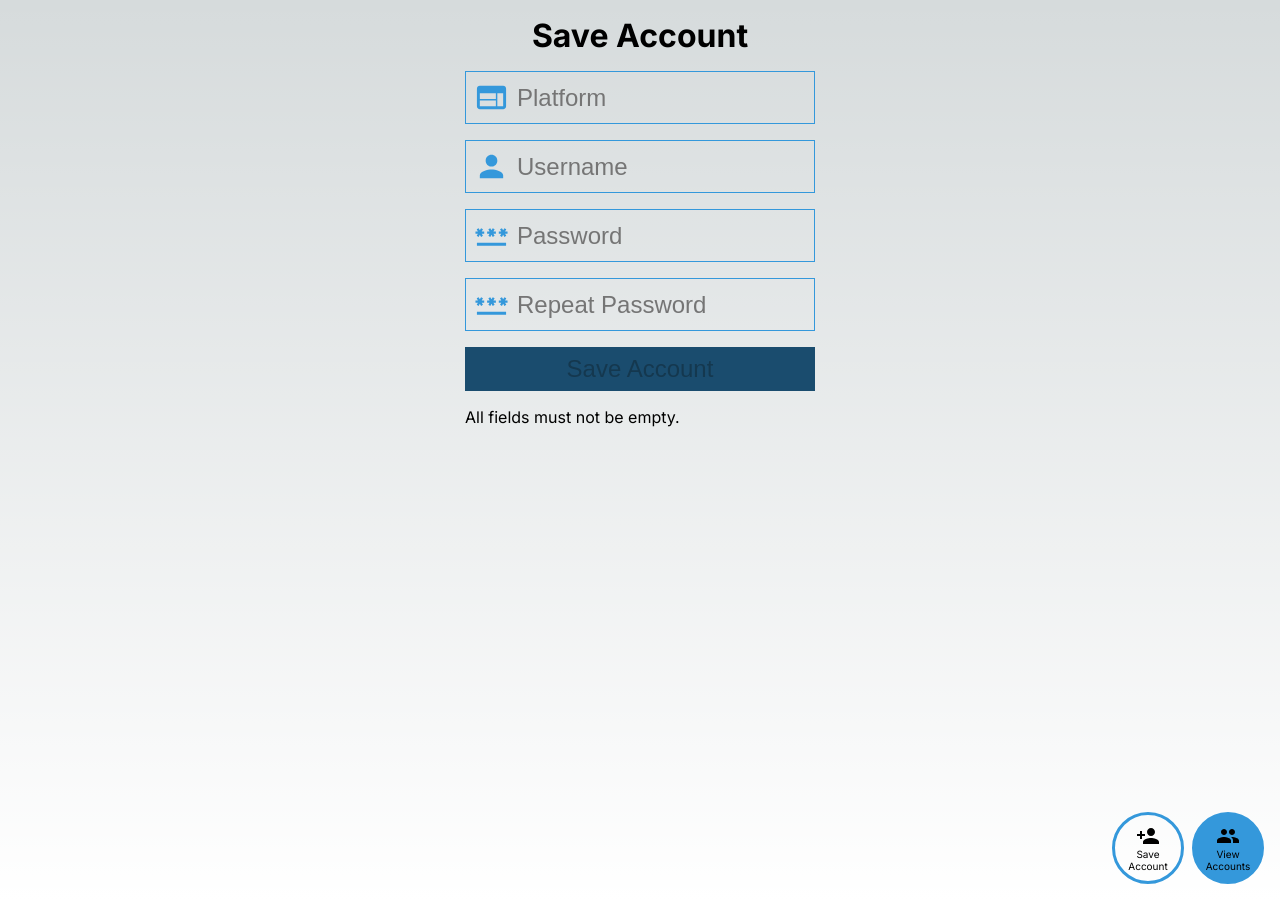
Test: SaveAccount Component › enables the "Save Account" button when inputs are valid
Type "TestPlatform" into the field with placeholder "Platform".
click(672, 98); type("TestPlatform")  # box x1=517 y1=80 x2=827 y2=115
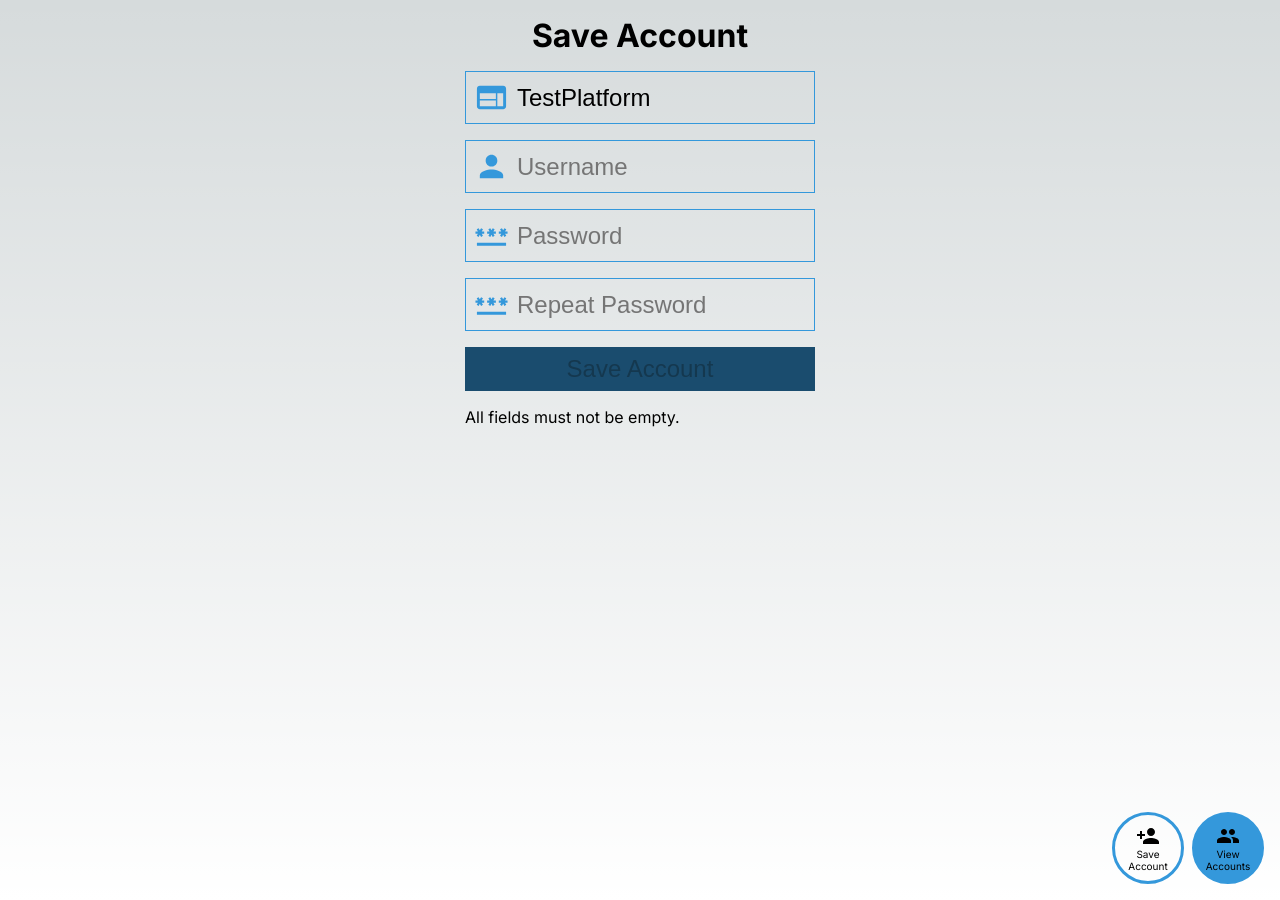
Type "TestUsername" into the field with placeholder "Username".
click(672, 166); type("TestUsername")  # box x1=517 y1=149 x2=827 y2=184
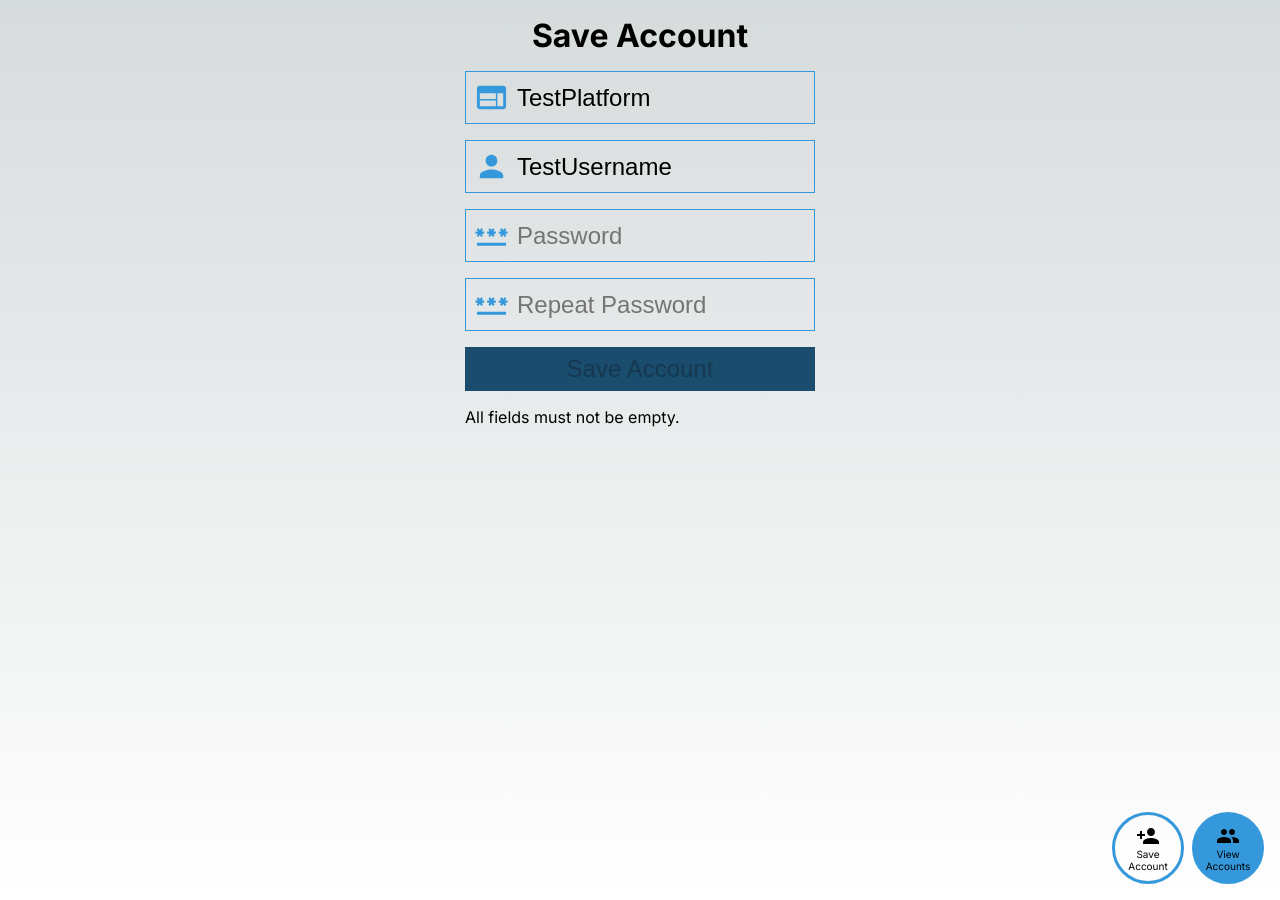
Type "Password123" into the password field with placeholder "Password".
click(672, 236); type("Password123")  # box x1=517 y1=218 x2=827 y2=253
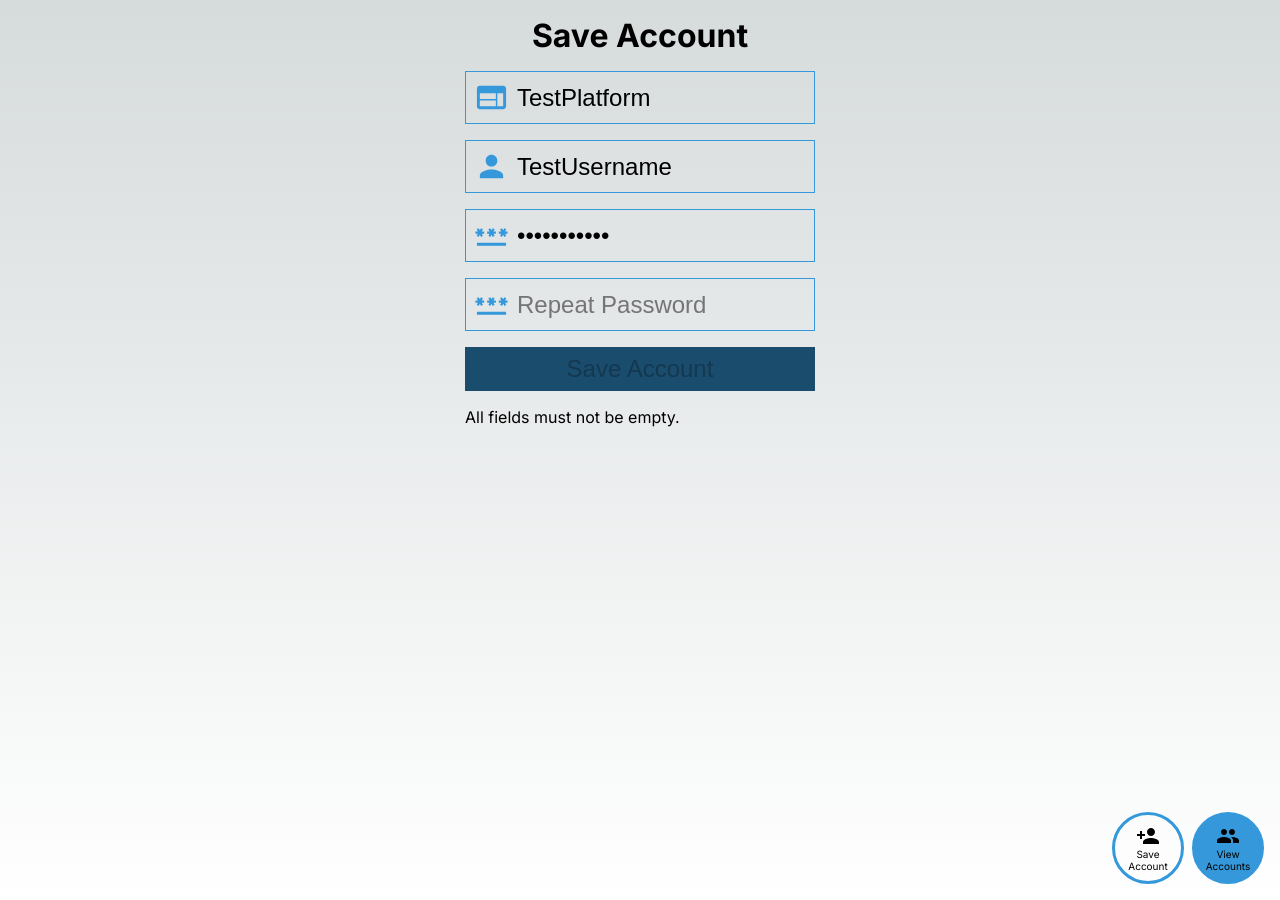
Type "Password123" into the password field with placeholder "Repeat Password".
click(672, 304); type("Password123")  # box x1=517 y1=287 x2=827 y2=322
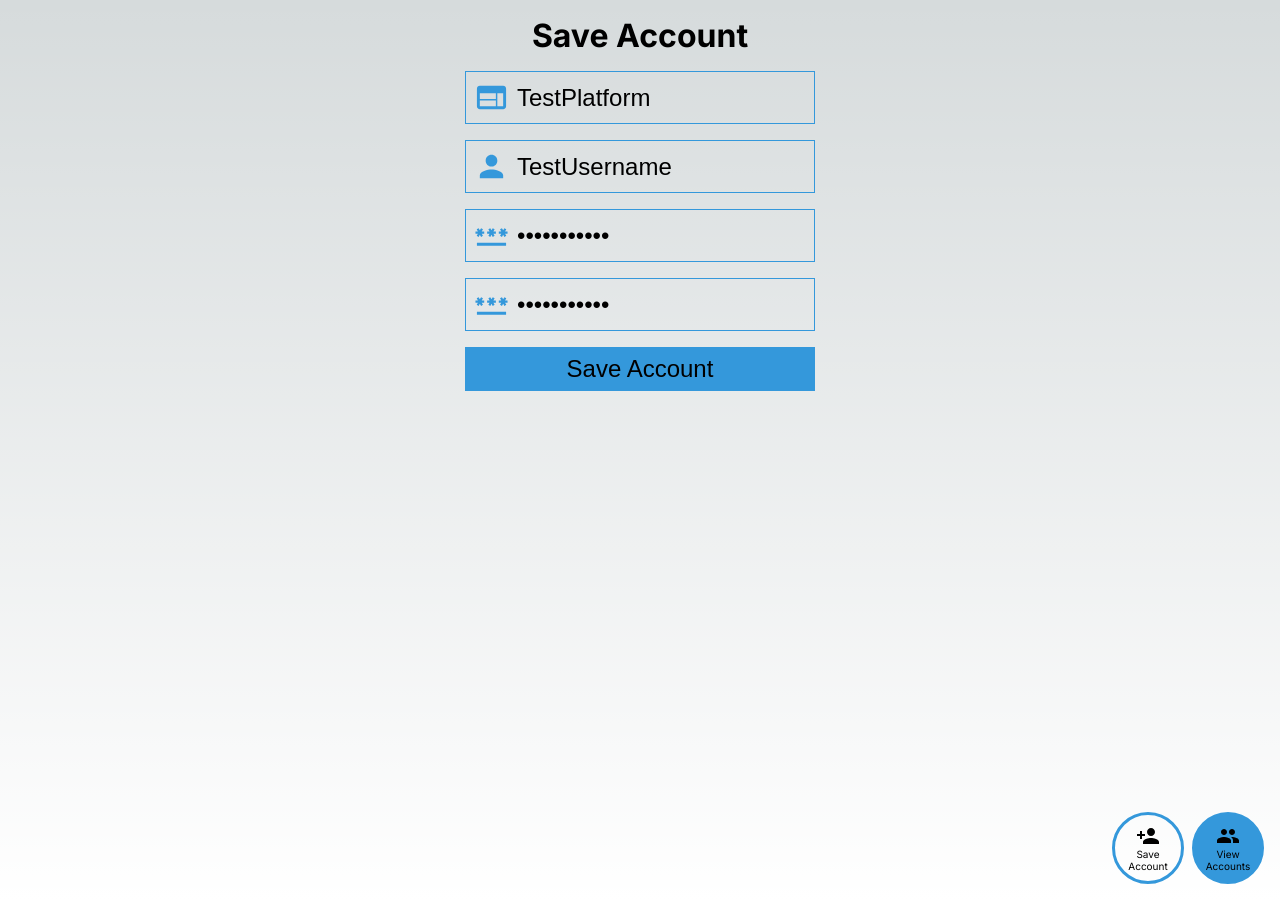
Now the button "Save Account" is enabled, box x1=465 y1=347 x2=815 y2=391
